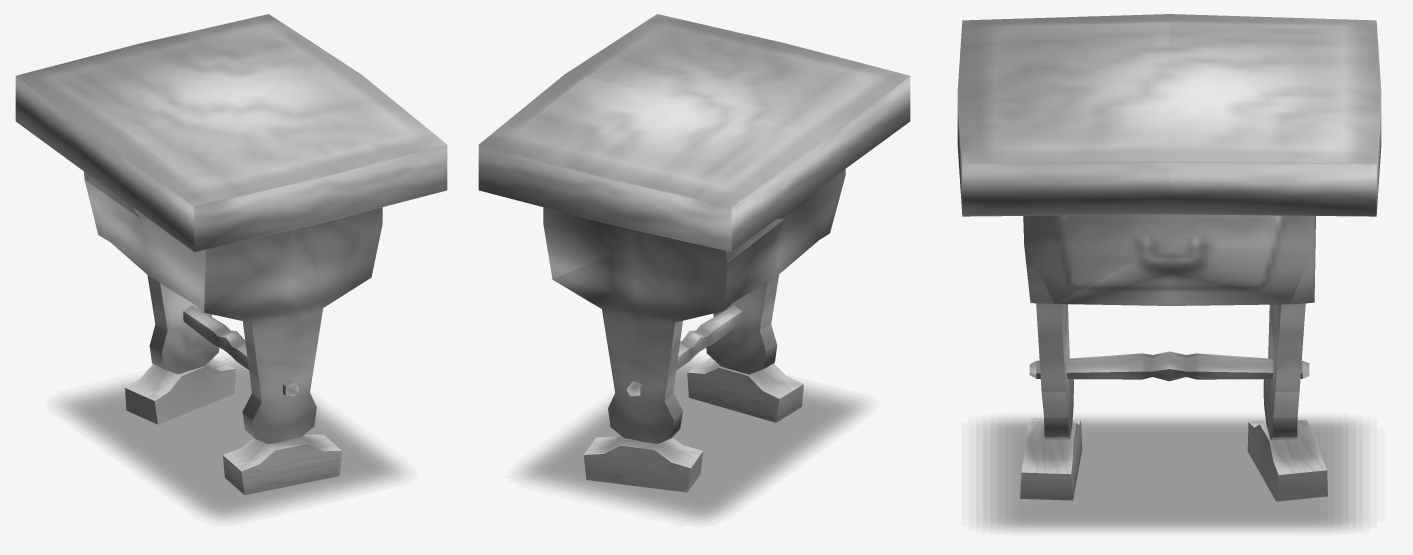
Rendered from table_radioDesat.glb.
The picture shows the model from 3 angles, left to right: view 1: azimuth 30°, elevation 25°; view 2: azimuth 150°, elevation 25°; view 3: azimuth 270°, elevation 25°; orthographic projection. The views are drawn at different scales.
Visible parts, largest first — view 1: RADIOTABLE_Top, pPlane1, RADIOTABLE_Feet_l1, RADIOTABLE_Feet_l, RADIOTABLE_Spindle_a; view 2: RADIOTABLE_Top, pPlane1, RADIOTABLE_Feet_l, RADIOTABLE_Feet_l1, RADIOTABLE_Spindle_a; view 3: RADIOTABLE_Top, pPlane1, RADIOTABLE_Spindle_a, RADIOTABLE_Feet_l, RADIOTABLE_Feet_l1.
Part boxes in pixels (x1=…): RADIOTABLE_Top: x1=15, y1=14, x2=447, y2=444; pPlane1: x1=61, y1=358, x2=401, y2=519; RADIOTABLE_Feet_l1: x1=222, y1=434, x2=342, y2=495; RADIOTABLE_Feet_l: x1=125, y1=358, x2=235, y2=424; RADIOTABLE_Spindle_a: x1=183, y1=305, x2=298, y2=396; RADIOTABLE_Top: x1=478, y1=14, x2=910, y2=443; pPlane1: x1=522, y1=360, x2=863, y2=519; RADIOTABLE_Feet_l: x1=583, y1=435, x2=703, y2=492; RADIOTABLE_Feet_l1: x1=687, y1=357, x2=803, y2=422; RADIOTABLE_Spindle_a: x1=626, y1=305, x2=742, y2=396; RADIOTABLE_Top: x1=957, y1=14, x2=1381, y2=439; pPlane1: x1=983, y1=419, x2=1362, y2=530; RADIOTABLE_Spindle_a: x1=1029, y1=351, x2=1309, y2=381; RADIOTABLE_Feet_l: x1=1247, y1=418, x2=1327, y2=501; RADIOTABLE_Feet_l1: x1=1020, y1=418, x2=1082, y2=500.
Bounding box in the file's own units: 0.0338 × 0.0417 × 0.0444.
Materials: 3 (3 with a texture image).
